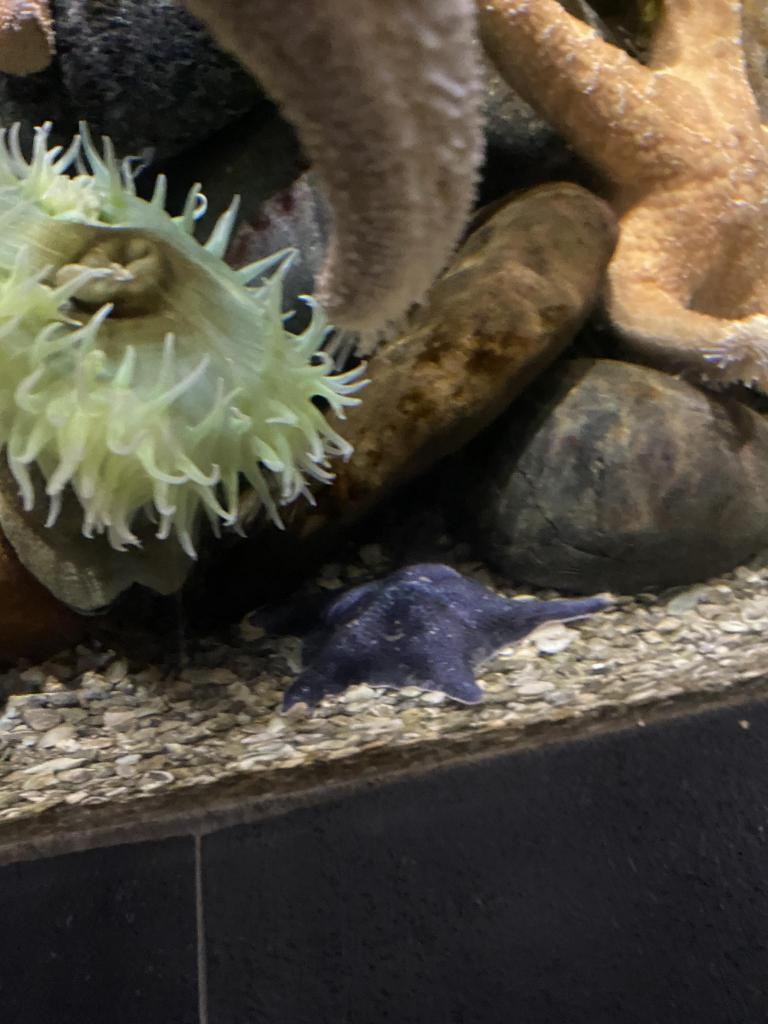starfish: (248, 564, 610, 706)
